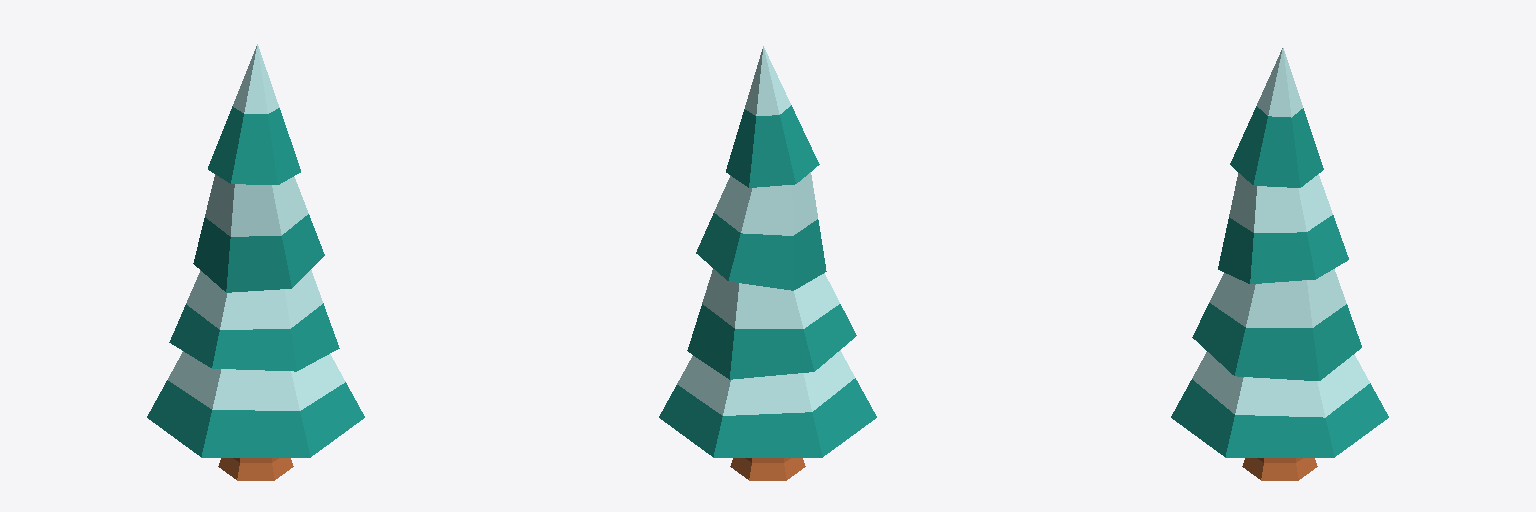
The model's file is treePineSnow.obj.
3 views of the same model, side by side, from view 1: azimuth 30°, elevation 25°; view 2: azimuth 150°, elevation 25°; view 3: azimuth 270°, elevation 25° (orthographic).
Visible parts, largest first — view 1: treePineSnow; view 2: treePineSnow; view 3: treePineSnow.
Boxes of the visible parts, x1=… form: treePineSnow: x1=147, y1=44, x2=364, y2=480; treePineSnow: x1=659, y1=46, x2=876, y2=480; treePineSnow: x1=1171, y1=48, x2=1388, y2=480.
Bounding box in the file's own units: 0.651 × 1.6 × 0.7517.